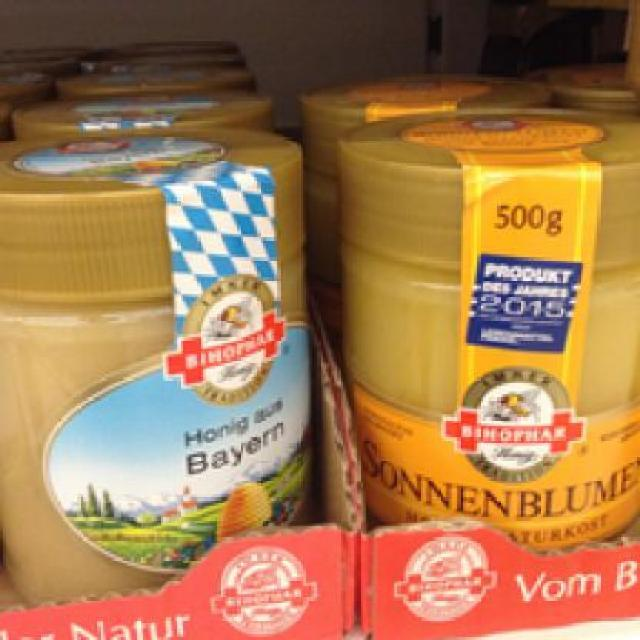Honey: (0, 130, 315, 612), (340, 106, 637, 540)
